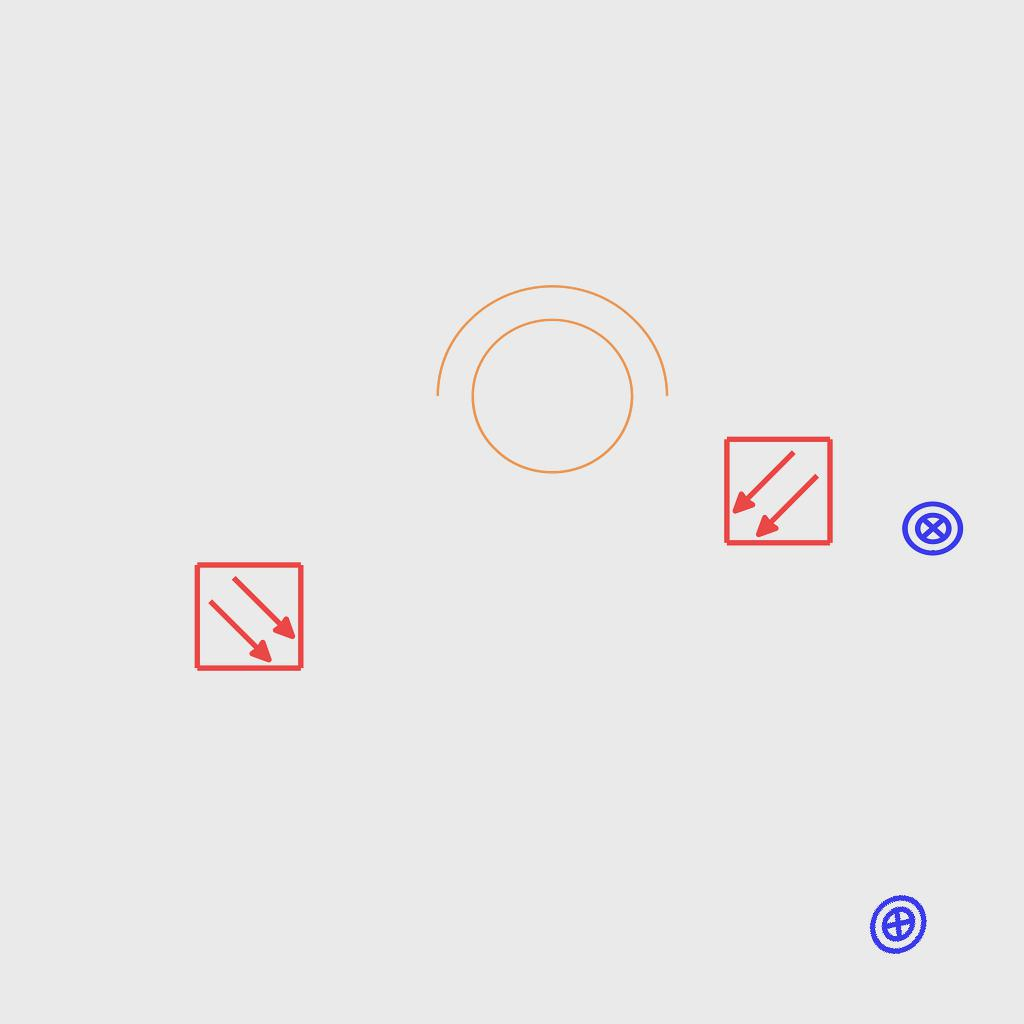RMO_Rauchmelder_optischer: (193, 560, 306, 673), (722, 435, 835, 548)
Scheinwerfer_fuer_Alarmbeleuchtung: (414, 274, 678, 499)
Taster_beleuchtet: (851, 877, 945, 971), (900, 495, 966, 561)
